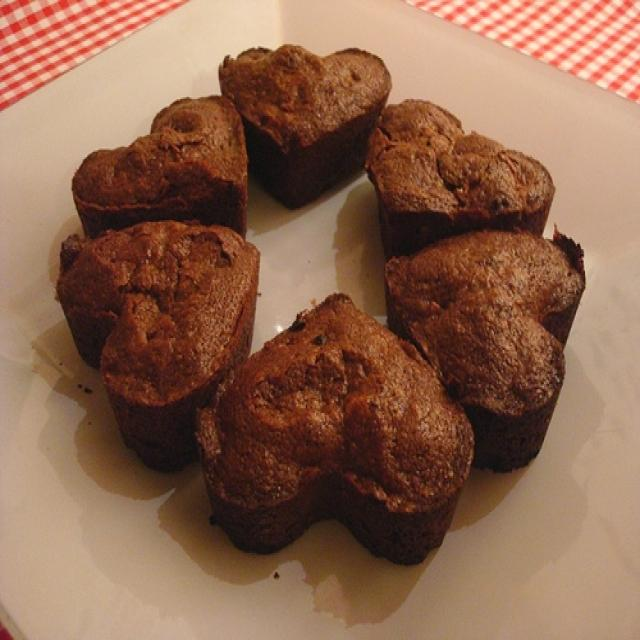蛋糕甜品: (54, 49, 589, 572)
